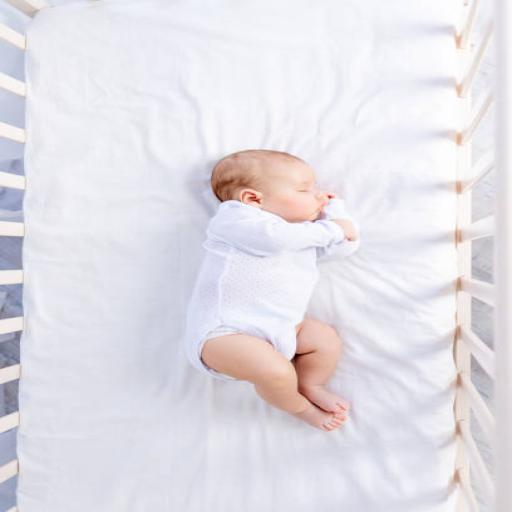baby: (185, 150, 360, 430)
crib: (0, 0, 511, 511)
